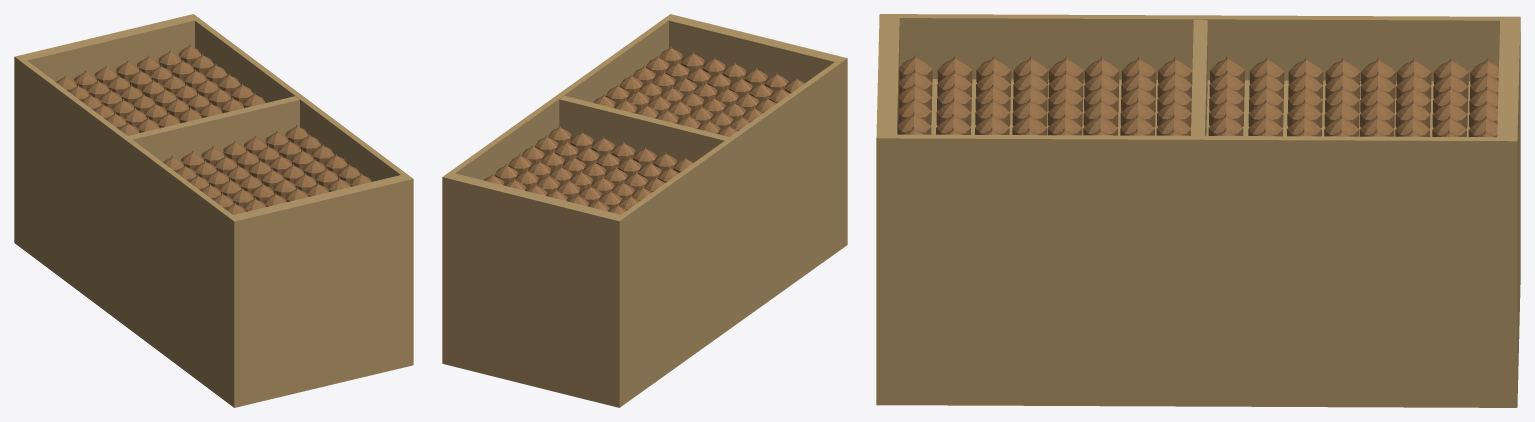
The model's file is onion_box.gltf.
3 views of the same model, side by side, from view 1: azimuth 30°, elevation 25°; view 2: azimuth 150°, elevation 25°; view 3: azimuth 270°, elevation 25° (orthographic). The views are drawn at different scales.
Parts seen in each view (by area): view 1: Cube.029; view 2: Cube.029; view 3: Cube.029.
Part boxes in pixels (x1,y1,x2,y2): Cube.029: [14, 14, 413, 407]; Cube.029: [442, 14, 847, 407]; Cube.029: [876, 14, 1520, 407].
Size of the model in its own units: 4.33 by 4.23 by 9.26.
2 materials, 1 textured.
